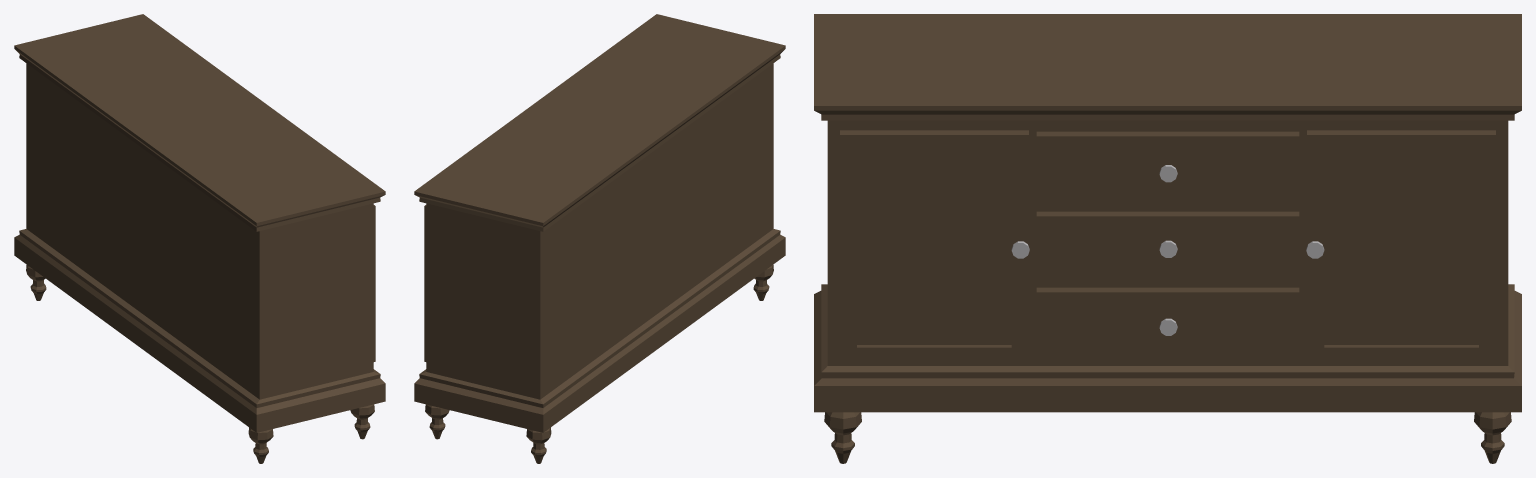
File: SM_Cupboard_04.glb
3 renders of one model, left to right at view 1: azimuth 30°, elevation 25°; view 2: azimuth 150°, elevation 25°; view 3: azimuth 270°, elevation 25°, orthographic. The views are drawn at different scales.
Parts seen in each view (by area): view 1: SM_Cupboard_04; view 2: SM_Cupboard_04; view 3: SM_Cupboard_04.
Part boxes in pixels (x1=…): SM_Cupboard_04: x1=14, y1=14, x2=385, y2=463; SM_Cupboard_04: x1=414, y1=14, x2=785, y2=463; SM_Cupboard_04: x1=814, y1=14, x2=1521, y2=463.
Bounding box in the file's own units: 0.5642 × 1.04 × 1.82.
1 material, 1 textured.
